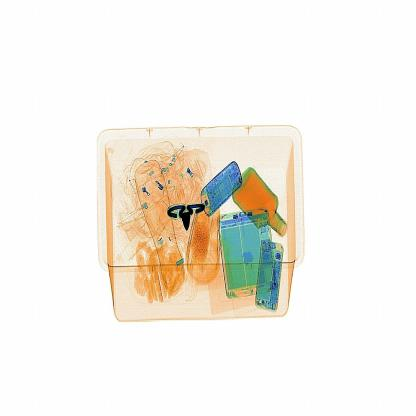gun: (158, 184, 211, 235)
